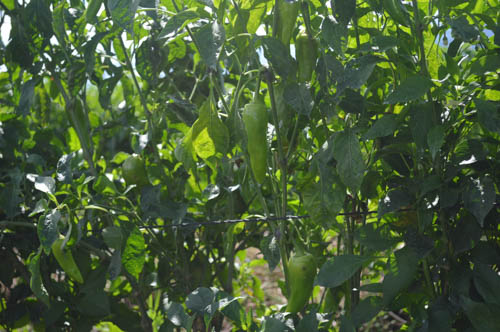ChiliPepper: (283, 258, 314, 319), (243, 104, 266, 181), (274, 3, 297, 47), (297, 39, 317, 84), (122, 153, 144, 188)
